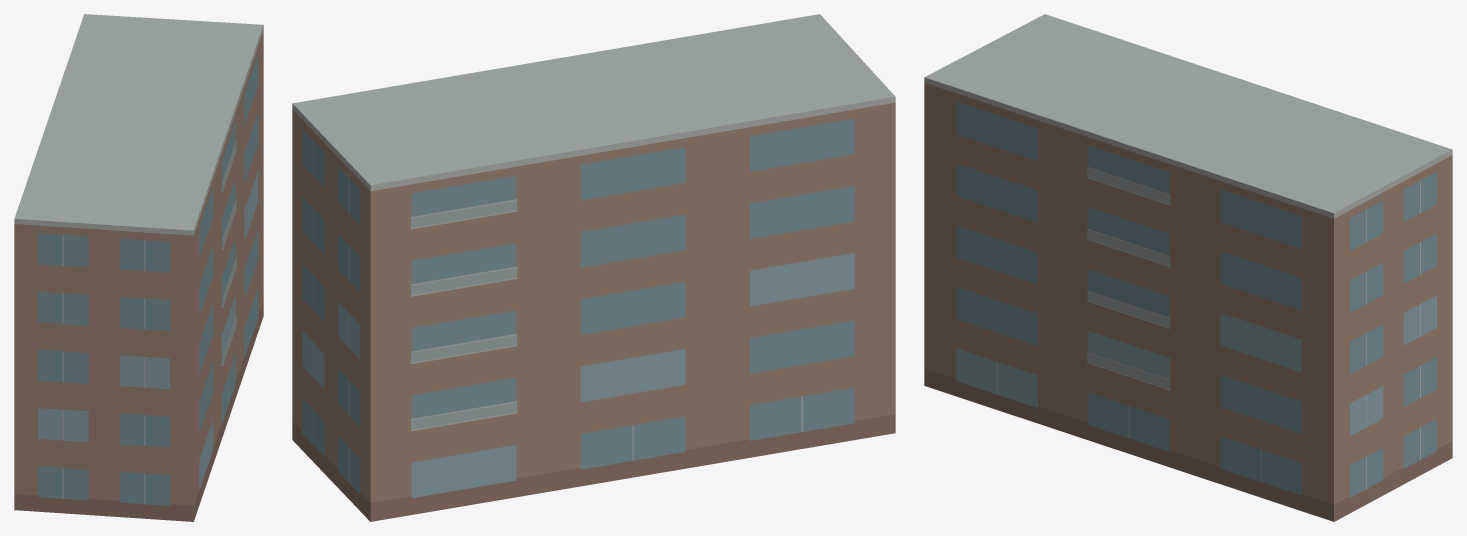
The model's file is survey-upis-32915174.glb.
3 views of the same model, side by side, from view 1: azimuth 30°, elevation 25°; view 2: azimuth 150°, elevation 25°; view 3: azimuth 270°, elevation 25° (orthographic). The views are drawn at different scales.
Visible parts, largest first — view 1: survey-upis-32915174.tmp; view 2: survey-upis-32915174.tmp; view 3: survey-upis-32915174.tmp.
Part boxes in pixels (bbox=[...]): survey-upis-32915174.tmp: bbox=[14, 14, 263, 521]; survey-upis-32915174.tmp: bbox=[292, 14, 895, 521]; survey-upis-32915174.tmp: bbox=[924, 14, 1452, 521].
Bounding box in the file's own units: 19.13 × 13.8 × 21.42.
